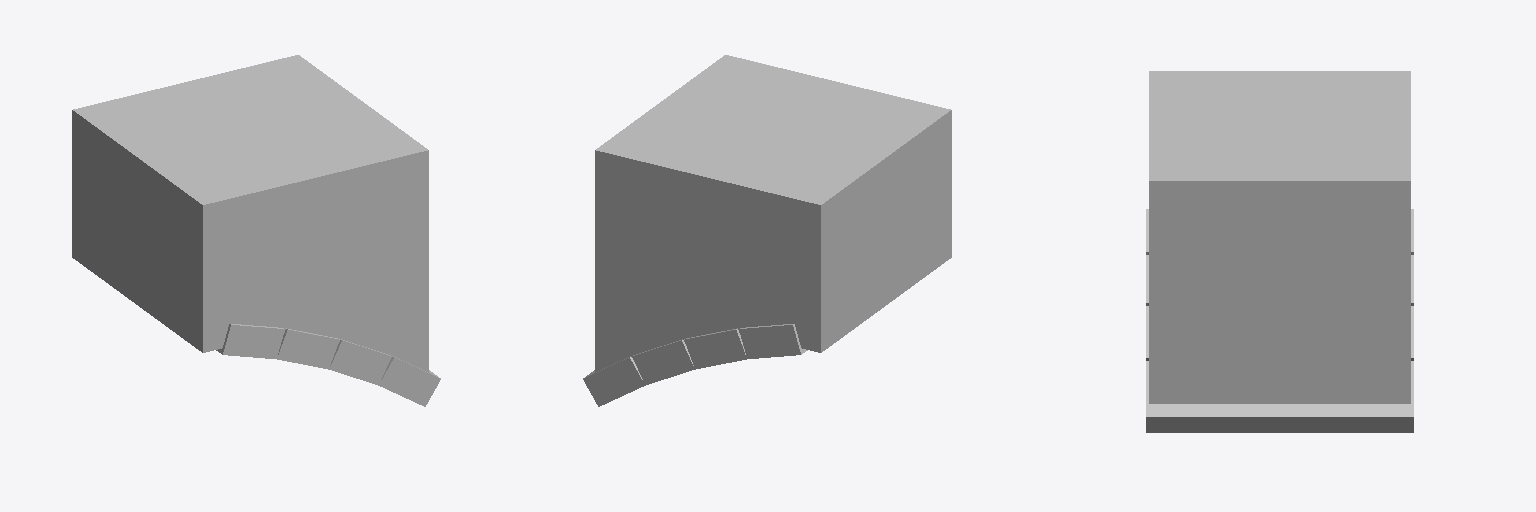
File: sandstone_five_arch_top.obj
The picture shows the model from 3 angles: view 1: azimuth 30°, elevation 25°; view 2: azimuth 150°, elevation 25°; view 3: azimuth 270°, elevation 25°; orthographic projection.
Parts seen in each view (by area): view 1: cube; view 2: cube; view 3: cube.
Part boxes in pixels (x1,y1,x2,y2): cube: (72,55,440,406); cube: (583,55,951,406); cube: (1146,71,1413,432).
Size of the model in its own units: 1.05 by 1.08 by 1.02.